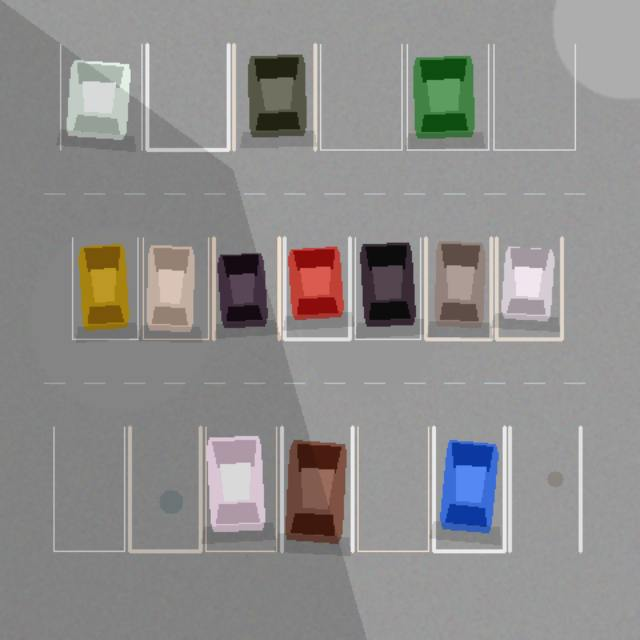space-empty: (53, 427, 124, 551), (129, 427, 200, 551), (357, 427, 428, 551), (509, 427, 580, 551), (493, 44, 575, 149), (147, 44, 228, 149), (320, 44, 401, 149)
space-occupied: (205, 427, 276, 551), (281, 427, 352, 551), (433, 427, 504, 551), (233, 44, 315, 149), (60, 44, 141, 149), (407, 44, 488, 149), (213, 237, 279, 339), (425, 237, 491, 339), (72, 237, 137, 339), (143, 237, 208, 339), (284, 237, 349, 339), (355, 237, 420, 339), (496, 237, 561, 339)
